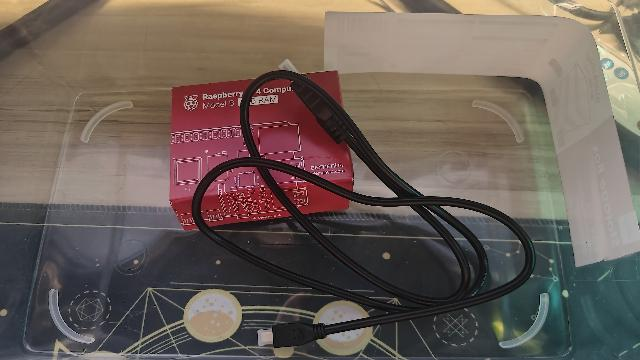hdmi_cable: (190, 68, 536, 332)
rpi_box: (167, 68, 355, 233)
